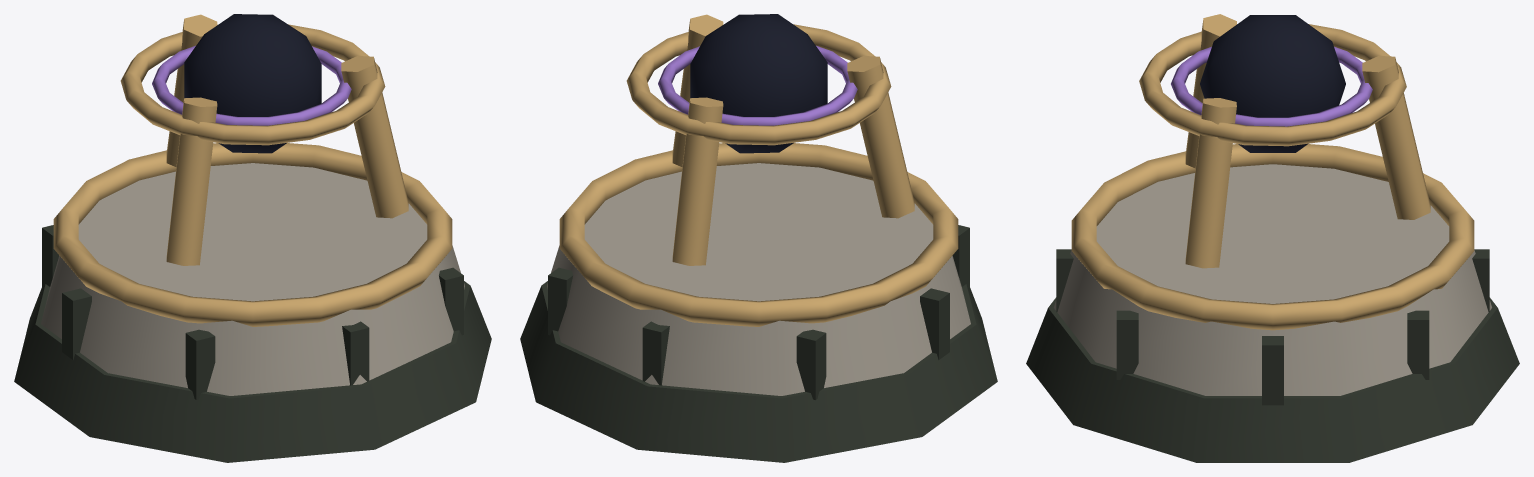
Rendered from tower_gravity_gravityWell.glb.
The picture shows the model from 3 angles, left to right: view 1: azimuth 30°, elevation 25°; view 2: azimuth 150°, elevation 25°; view 3: azimuth 270°, elevation 25°; orthographic projection.
Parts seen in each view (by area): view 1: stone_1, foot_0, rim_2, black_hole_11, orbit_16, claw_14, claw_13, accretion_15, mortar_6, mortar_7, claw_12, mortar_5 (+2 smaller); view 2: stone_1, foot_0, rim_2, black_hole_11, orbit_16, claw_12, claw_14, accretion_15, mortar_8, mortar_7, claw_13, mortar_9 (+2 smaller); view 3: stone_1, foot_0, rim_2, black_hole_11, orbit_16, claw_13, claw_12, accretion_15, mortar_3, mortar_4, mortar_10, claw_14 (+2 smaller).
Part boxes in pixels (x1,y1,x2,y2): stone_1: (41,163,464,395); foot_0: (14,281,491,462); rim_2: (53,143,452,326); black_hole_11: (184,14,321,153); orbit_16: (120,24,385,145); claw_14: (166,97,217,265); claw_13: (341,56,408,218); accretion_15: (152,45,351,125); mortar_6: (185,329,215,399); mortar_7: (62,288,91,359); claw_12: (166,14,217,166); mortar_5: (342,321,369,385); stone_1: (547,163,970,395); foot_0: (520,281,997,462); rim_2: (559,143,958,326); black_hole_11: (690,14,827,153); orbit_16: (626,24,891,145); claw_12: (672,97,723,265); claw_14: (847,56,914,218); accretion_15: (658,45,857,125); mortar_8: (796,329,826,399); mortar_7: (920,288,949,359); claw_13: (672,14,723,166); mortar_9: (642,321,669,385); stone_1: (1054,164,1491,395); foot_0: (1026,297,1519,462); rim_2: (1071,144,1474,330); black_hole_11: (1200,15,1345,152); orbit_16: (1139,24,1406,146); claw_13: (1185,98,1236,268); claw_12: (1362,56,1430,219); accretion_15: (1171,46,1372,126); mortar_3: (1262,336,1283,405); mortar_4: (1116,310,1138,379); mortar_10: (1407,310,1429,379); claw_14: (1185,14,1236,168).
Bounding box in the file's own units: 0.5326 × 0.433 × 0.56.
